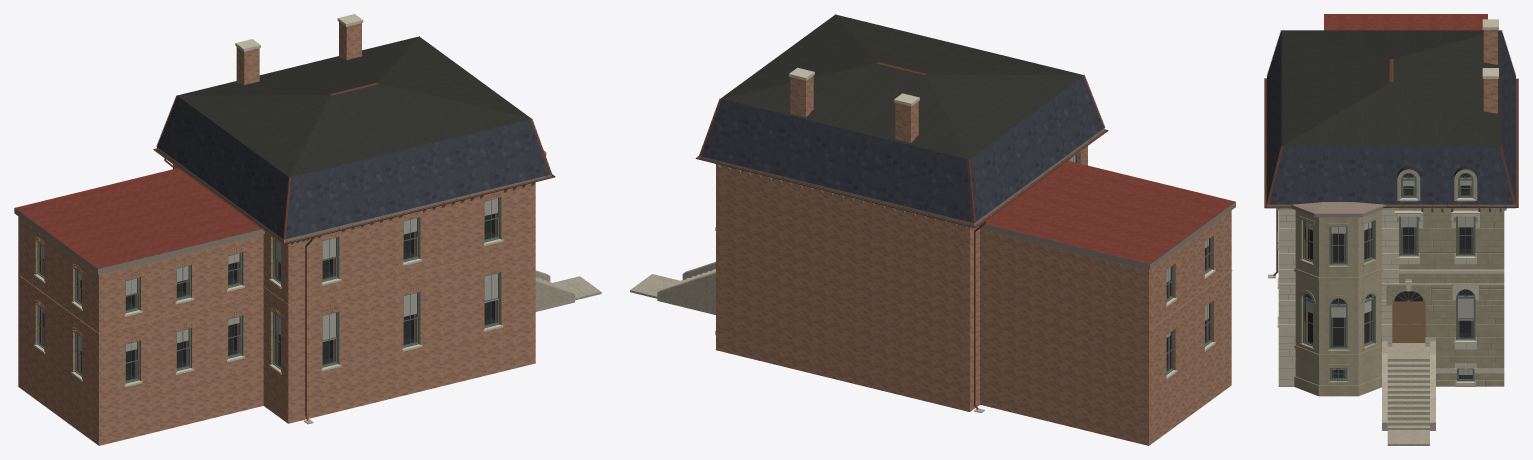
File: rothschild_house_2112_prairie__as_mapped_1904.glb
The picture shows the model from 3 angles, left to right: view 1: azimuth 30°, elevation 25°; view 2: azimuth 150°, elevation 25°; view 3: azimuth 270°, elevation 25°; orthographic projection. The views are drawn at different scales.
Parts seen in each view (by area): view 1: rothschild_house_2112_prairie__as_mapped_1904; view 2: rothschild_house_2112_prairie__as_mapped_1904; view 3: rothschild_house_2112_prairie__as_mapped_1904.
Part boxes in pixels (left/top/right/bottom): rothschild_house_2112_prairie__as_mapped_1904: left=14, top=14, right=601, bottom=445; rothschild_house_2112_prairie__as_mapped_1904: left=630, top=14, right=1235, bottom=445; rothschild_house_2112_prairie__as_mapped_1904: left=1264, top=14, right=1518, bottom=445.
Bounding box in the file's own units: 31.44 × 15.96 × 13.19.
27 materials, 16 textured.
